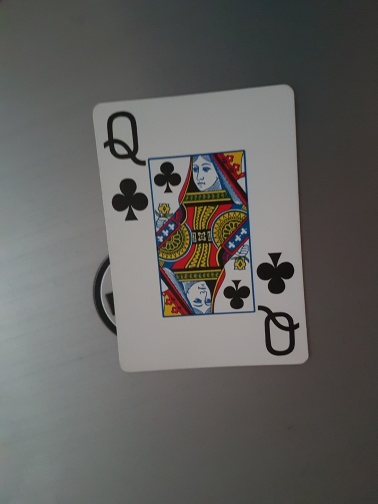queen: (93, 84, 309, 370)
